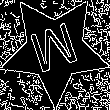M_S: (26, 18, 83, 81)
